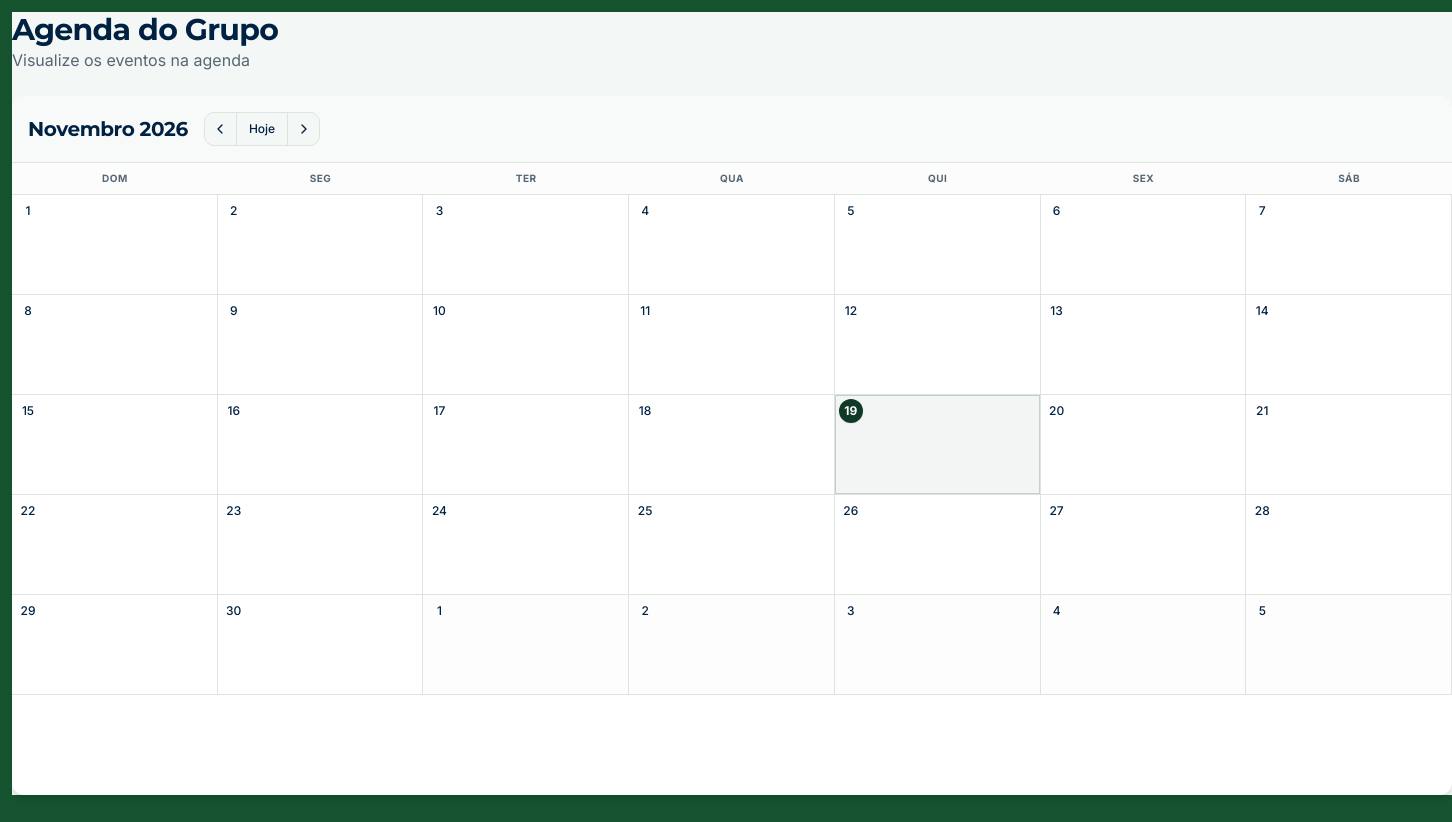
it: Seção Informativo do card de evento › não aparece quando o evento não tem descrição
Click the element showing "19": (938, 445) [835,395,1040,495]
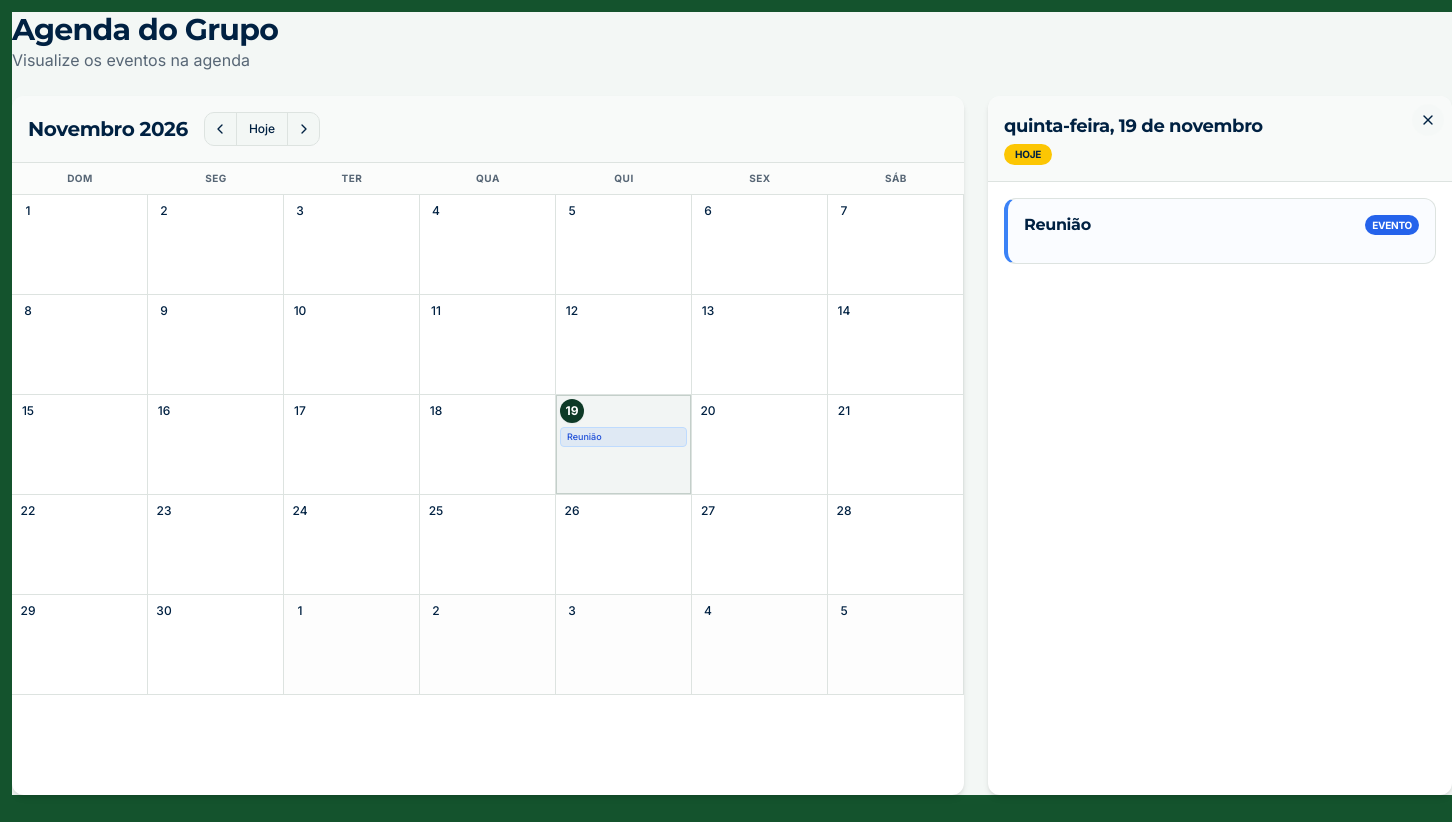
Check: the text "Reunião" is shown, box [560,427,687,446]
